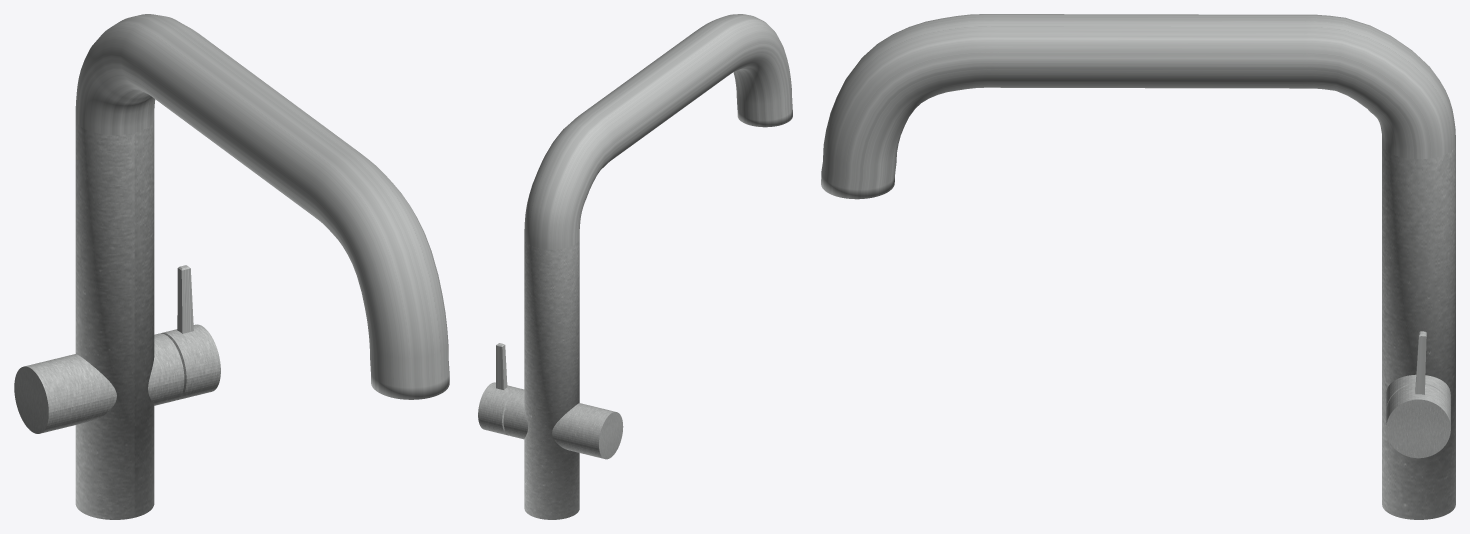
File: keuken1_Faucet.fbx
3 views of the same model, side by side, from view 1: azimuth 30°, elevation 25°; view 2: azimuth 150°, elevation 25°; view 3: azimuth 270°, elevation 25° (orthographic). The views are drawn at different scales.
Parts seen in each view (by area): view 1: Cylinder; view 2: Cylinder; view 3: Cylinder.
Part boxes in pixels (x1,y1,x2,y2): Cylinder: (14, 14, 449, 519); Cylinder: (478, 14, 792, 519); Cylinder: (821, 14, 1455, 519).
Bounding box in the file's own units: 12.43 × 35.8 × 42.39.
